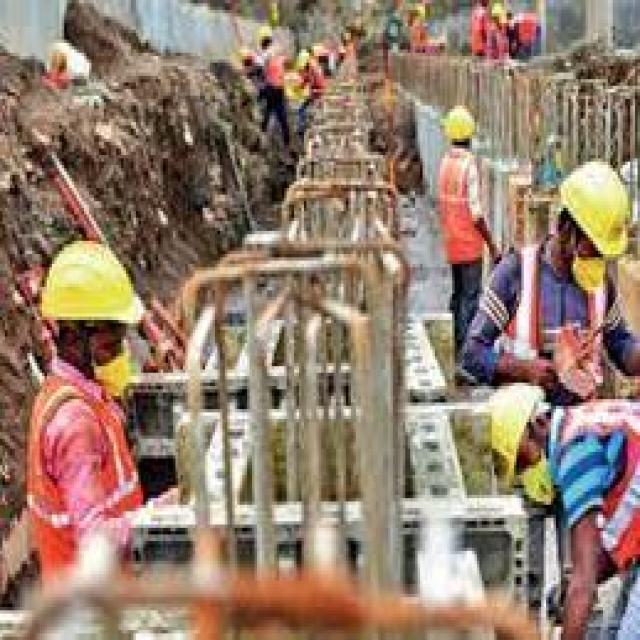Reflective-Jacket: (2, 366, 148, 591), (477, 240, 630, 416), (533, 402, 640, 567), (432, 148, 490, 270)
Safety-Helmet: (25, 231, 153, 346), (546, 152, 640, 267), (469, 369, 556, 492), (437, 99, 482, 152)
